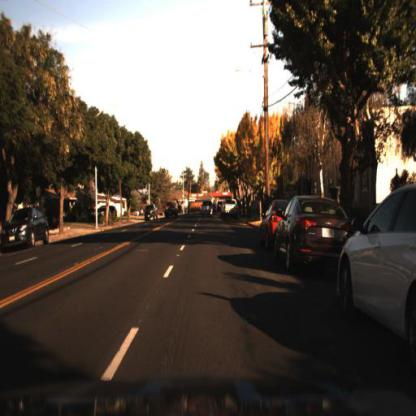car: (334, 181, 416, 358), (272, 193, 355, 270), (1, 208, 52, 256), (258, 198, 289, 251), (163, 198, 182, 225), (221, 196, 239, 224), (142, 201, 161, 224), (164, 198, 182, 221), (91, 206, 113, 224), (200, 198, 217, 220), (145, 204, 159, 224)
